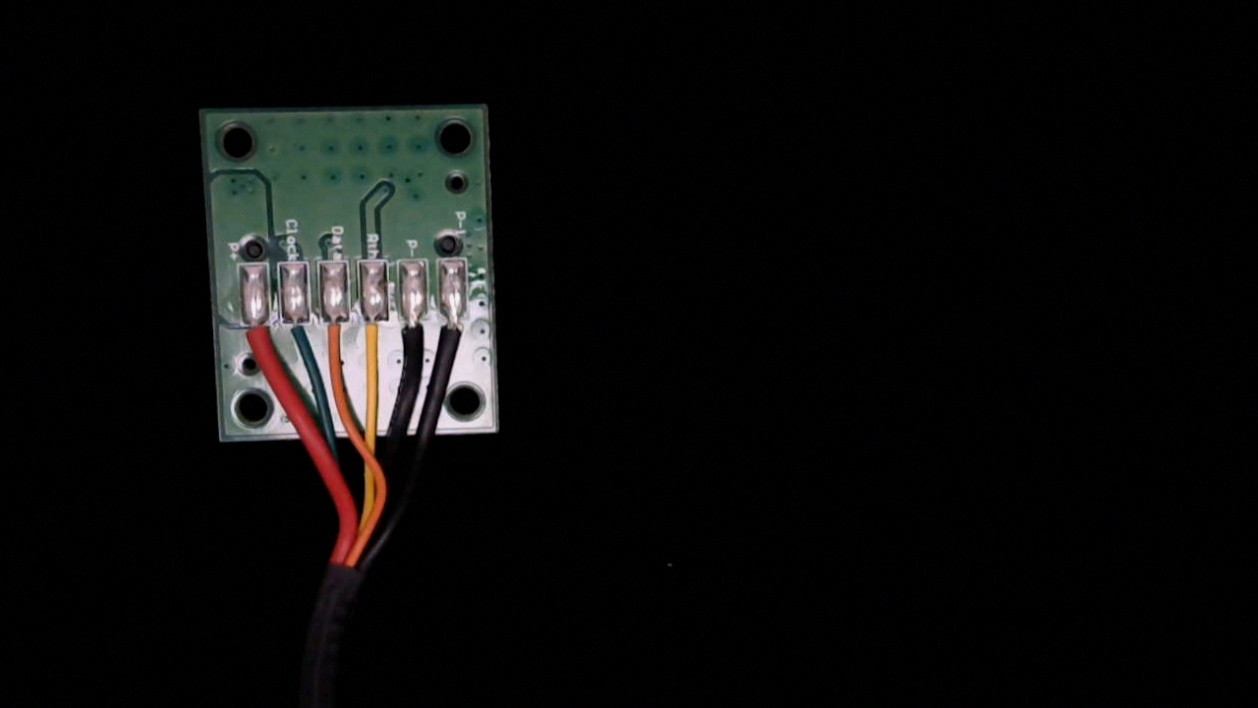Black: (398, 301, 430, 369)
Black1: (437, 300, 471, 367)
Green: (280, 304, 315, 365)
Orange: (320, 299, 353, 370)
Red: (238, 305, 273, 374)
Yellow: (357, 299, 392, 373)
